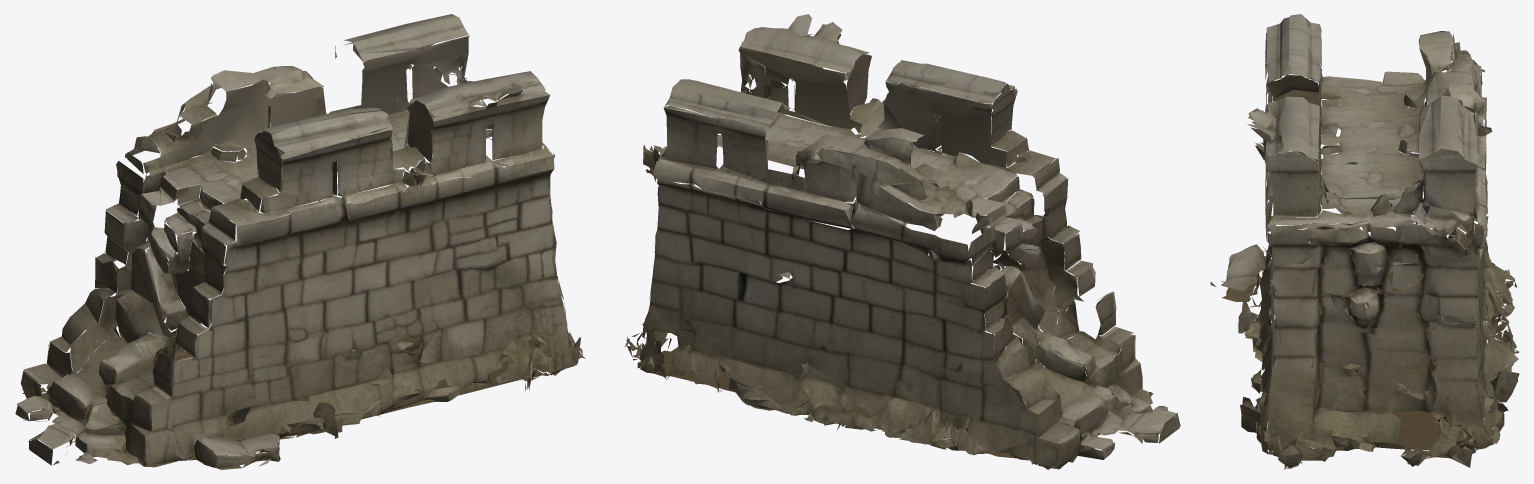
File: ruinedWall.glb
3 renders of one model, left to right at view 1: azimuth 30°, elevation 25°; view 2: azimuth 150°, elevation 25°; view 3: azimuth 270°, elevation 25°, orthographic. The views are drawn at different scales.
Parts seen in each view (by area): view 1: Prop_ruinedWall; view 2: Prop_ruinedWall; view 3: Prop_ruinedWall.
Part boxes in pixels (bbox=[...]): Prop_ruinedWall: bbox=[15, 14, 585, 469]; Prop_ruinedWall: bbox=[624, 14, 1180, 469]; Prop_ruinedWall: bbox=[1210, 14, 1519, 469].
Bounding box in the file's own units: 6.29 × 3.53 × 3.24.
Materials: 1 (1 with a texture image).
